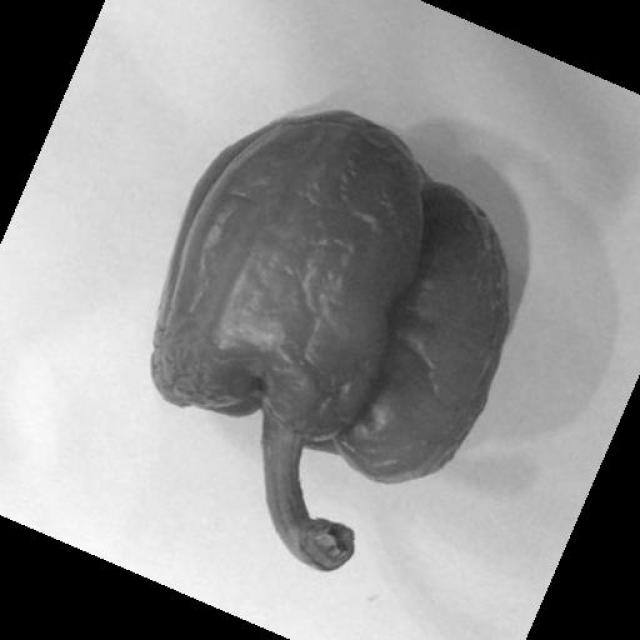Stale_Capsicum: (144, 114, 501, 525)
